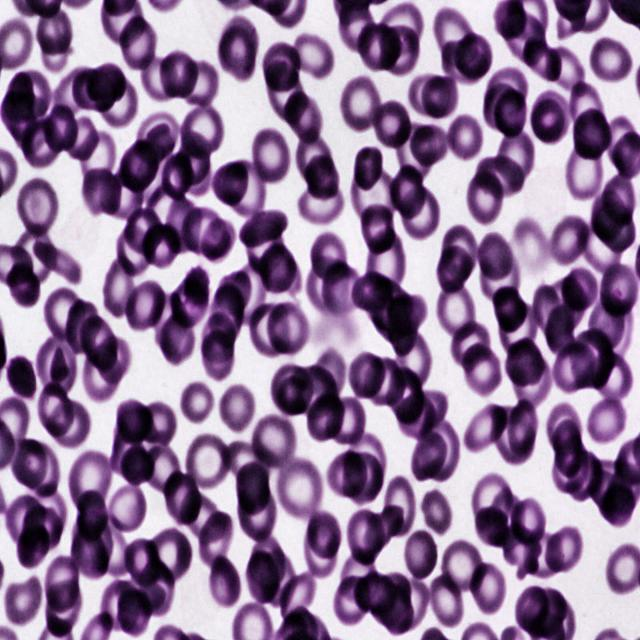red blood cell: (274, 455, 324, 522), (227, 257, 271, 327), (177, 99, 225, 162), (217, 13, 260, 83), (438, 537, 486, 598), (34, 333, 77, 401), (15, 176, 59, 241), (69, 446, 113, 511), (339, 72, 384, 135), (250, 413, 298, 472), (166, 267, 212, 328), (570, 327, 614, 390), (380, 473, 419, 544), (348, 170, 398, 224), (10, 224, 54, 285), (249, 125, 291, 188), (219, 439, 273, 488), (122, 277, 168, 333), (101, 251, 140, 317), (346, 432, 386, 495), (264, 61, 305, 122), (238, 485, 278, 547), (434, 8, 476, 67), (422, 419, 460, 484), (563, 143, 607, 199), (501, 10, 546, 64), (180, 493, 227, 544), (529, 89, 571, 146), (378, 4, 424, 56), (540, 524, 584, 578), (322, 262, 365, 317), (493, 408, 535, 464), (103, 478, 145, 534), (393, 123, 435, 179), (24, 484, 66, 540), (224, 160, 265, 217), (304, 262, 348, 315), (136, 112, 180, 165), (294, 366, 338, 419), (187, 435, 230, 489), (270, 364, 313, 418), (210, 158, 253, 212), (434, 285, 477, 339), (500, 523, 542, 578), (463, 402, 509, 452), (100, 170, 146, 220), (356, 23, 402, 73), (462, 342, 503, 398), (308, 232, 349, 288), (581, 220, 622, 276), (368, 573, 412, 625), (3, 495, 47, 547), (142, 442, 182, 499), (473, 473, 513, 530), (250, 302, 290, 359), (367, 228, 405, 288), (149, 528, 191, 582), (467, 561, 508, 616), (572, 106, 612, 162), (586, 390, 626, 446), (400, 186, 440, 242), (346, 510, 386, 566), (590, 34, 632, 87), (119, 15, 158, 72), (547, 276, 586, 333), (91, 522, 132, 576), (22, 117, 63, 171), (296, 182, 344, 228), (548, 216, 592, 266), (181, 207, 225, 257), (118, 139, 159, 192), (344, 451, 384, 505), (267, 304, 310, 354), (8, 70, 51, 120), (553, 342, 596, 392), (552, 437, 589, 495), (211, 283, 243, 350), (388, 365, 424, 424), (336, 1, 376, 54), (47, 402, 91, 450), (307, 390, 346, 444), (83, 348, 122, 402), (389, 578, 428, 632), (81, 316, 120, 370), (21, 504, 63, 554), (159, 50, 200, 101), (544, 400, 582, 455), (158, 311, 196, 366), (54, 66, 92, 121), (164, 200, 202, 255), (0, 91, 38, 146), (72, 523, 108, 581), (532, 284, 568, 342), (498, 303, 538, 355), (4, 572, 41, 628), (588, 295, 625, 351), (162, 473, 204, 522), (122, 208, 164, 257), (10, 438, 48, 492), (415, 486, 453, 540), (276, 569, 316, 620), (116, 224, 156, 275), (514, 356, 554, 407), (569, 80, 604, 138), (468, 168, 504, 224), (139, 561, 175, 617), (80, 132, 116, 188), (370, 296, 412, 344), (395, 334, 431, 390), (218, 381, 256, 434), (600, 263, 638, 316), (36, 383, 74, 436), (475, 156, 524, 197), (450, 322, 490, 372), (174, 133, 211, 187), (480, 253, 519, 304), (492, 488, 524, 550), (428, 574, 464, 629), (498, 127, 534, 182), (441, 39, 486, 83), (71, 68, 117, 111), (236, 207, 288, 245), (246, 223, 284, 275), (485, 68, 527, 115), (506, 397, 540, 455), (292, 32, 333, 80), (327, 450, 368, 498), (591, 351, 632, 399), (46, 554, 81, 610), (282, 92, 322, 141), (523, 529, 563, 578), (382, 26, 421, 76), (45, 289, 83, 340), (198, 510, 232, 567), (303, 523, 337, 580), (522, 36, 564, 82), (363, 506, 404, 553), (138, 53, 179, 100), (595, 205, 636, 252), (200, 329, 237, 381), (99, 79, 139, 127), (116, 397, 152, 450), (24, 441, 60, 494), (264, 42, 302, 92), (36, 6, 74, 56), (100, 580, 138, 630), (340, 554, 378, 604), (590, 192, 628, 242), (390, 164, 425, 218), (180, 377, 217, 428), (258, 243, 295, 294), (525, 589, 566, 635), (371, 101, 409, 150), (506, 338, 544, 387), (347, 353, 385, 402), (454, 32, 492, 81), (48, 580, 80, 638), (333, 576, 370, 626), (411, 122, 451, 168), (122, 538, 162, 584), (327, 399, 367, 445), (2, 353, 38, 404), (246, 551, 280, 605), (442, 226, 476, 280), (63, 301, 99, 352), (604, 114, 638, 168), (82, 165, 120, 213), (264, 552, 296, 609), (89, 62, 127, 110), (399, 388, 436, 437), (208, 556, 242, 609), (236, 463, 270, 516), (212, 269, 252, 314), (357, 207, 396, 253), (294, 133, 332, 180), (117, 585, 152, 636), (304, 154, 341, 202), (513, 586, 550, 634), (552, 420, 583, 477), (350, 269, 391, 312), (493, 282, 528, 332), (366, 359, 404, 405), (494, 88, 528, 139), (478, 232, 514, 280), (568, 450, 600, 504), (388, 292, 428, 335), (354, 572, 394, 615), (437, 245, 472, 294), (94, 339, 132, 384), (548, 47, 586, 92), (76, 489, 107, 544), (412, 432, 446, 482), (44, 104, 78, 154), (482, 82, 516, 132), (312, 351, 346, 401), (409, 76, 450, 117), (306, 510, 341, 558), (138, 402, 177, 445), (180, 62, 218, 106), (600, 482, 637, 527), (162, 151, 194, 203), (65, 117, 101, 163), (448, 115, 483, 162), (604, 174, 635, 227), (560, 270, 599, 312), (143, 224, 181, 267), (202, 312, 234, 363), (422, 75, 458, 120), (252, 538, 284, 588), (404, 531, 437, 579), (378, 588, 412, 634), (544, 305, 574, 357), (200, 217, 234, 262), (512, 499, 546, 544), (5, 265, 41, 307), (353, 146, 385, 191), (120, 445, 156, 485), (17, 525, 48, 571), (475, 507, 509, 548)
